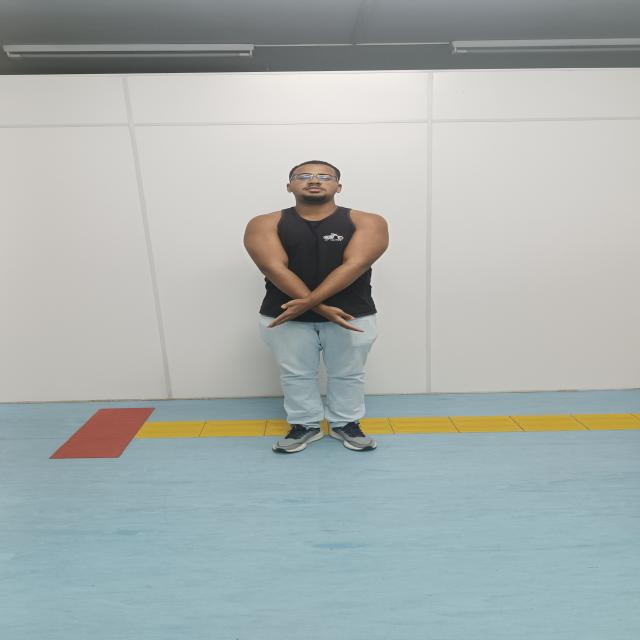land: (244, 160, 390, 454)
